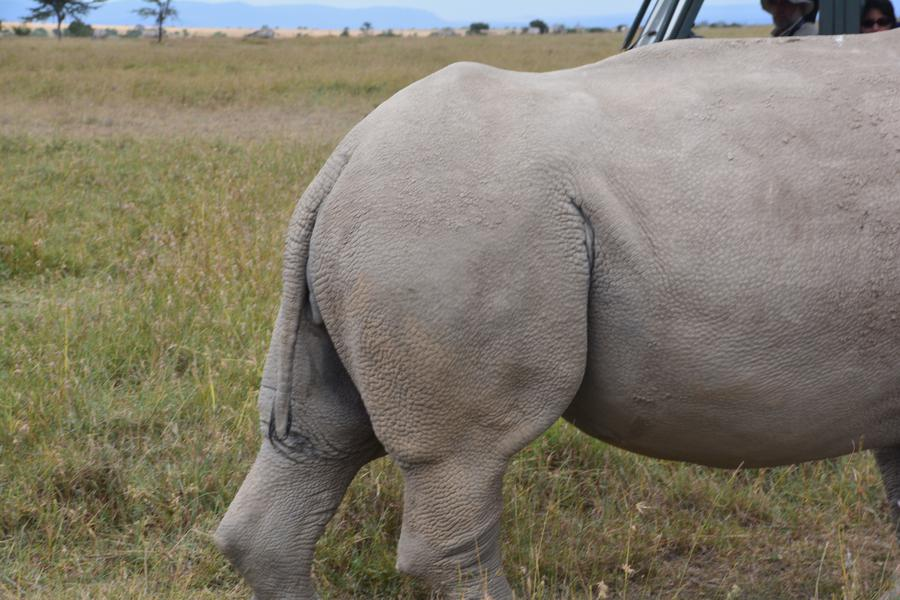rhino: (294, 34, 879, 520)
